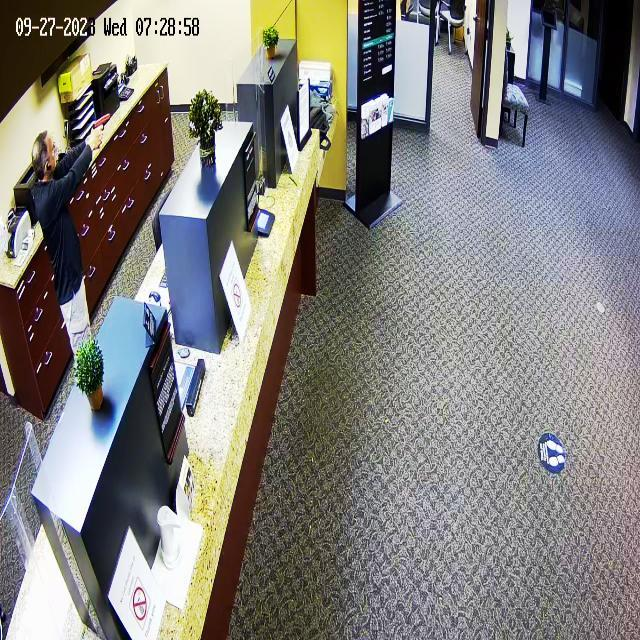Gun: (78, 105, 119, 140)
